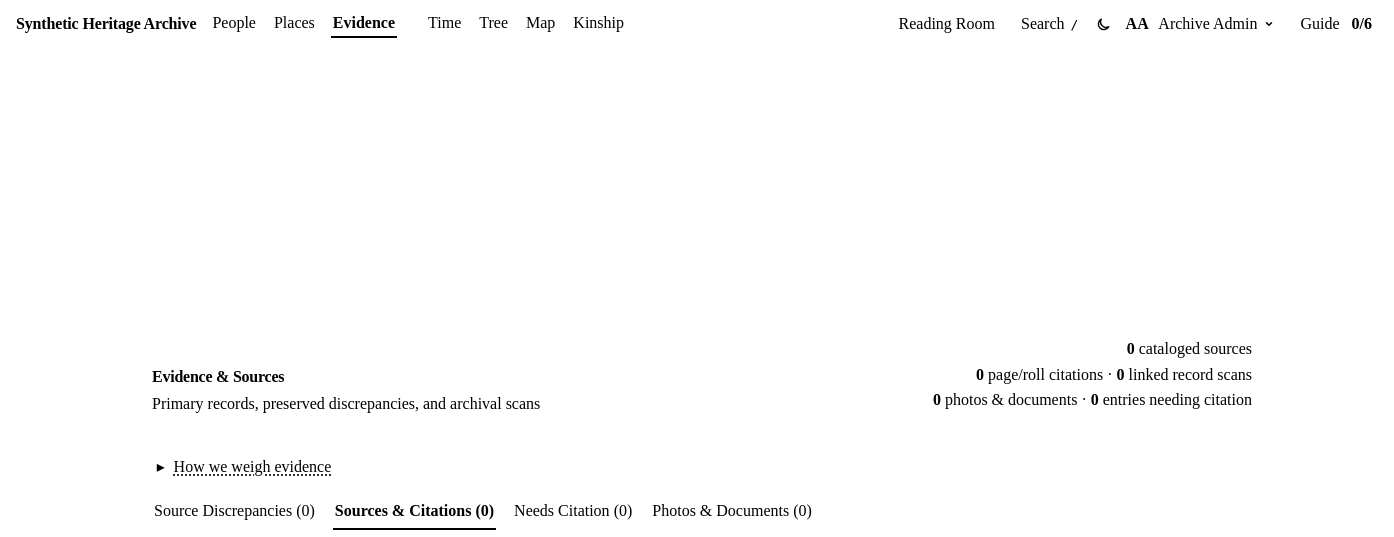
OnboardingChecklistCard, Guide menu, persistence, and contextual empty states › renders contextual empty states with role-appropriate CTAs on IndexPage, TreePage, TimePage, EvidencePage, and AdminPage
Later steps or results of the test are not shown.
Click the tab "Photos & Documents (0)": (732, 513) top-left (650, 496), bottom-right (814, 530)
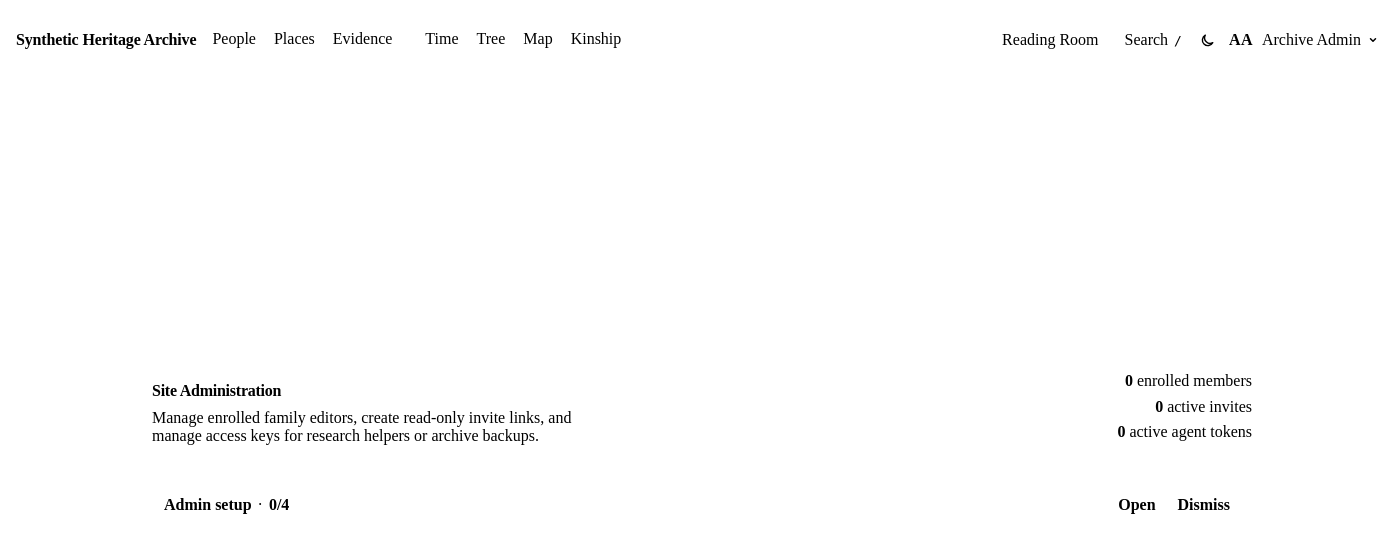
Result: the text "Admin setup" is shown at top-left (164, 496), bottom-right (252, 514)
